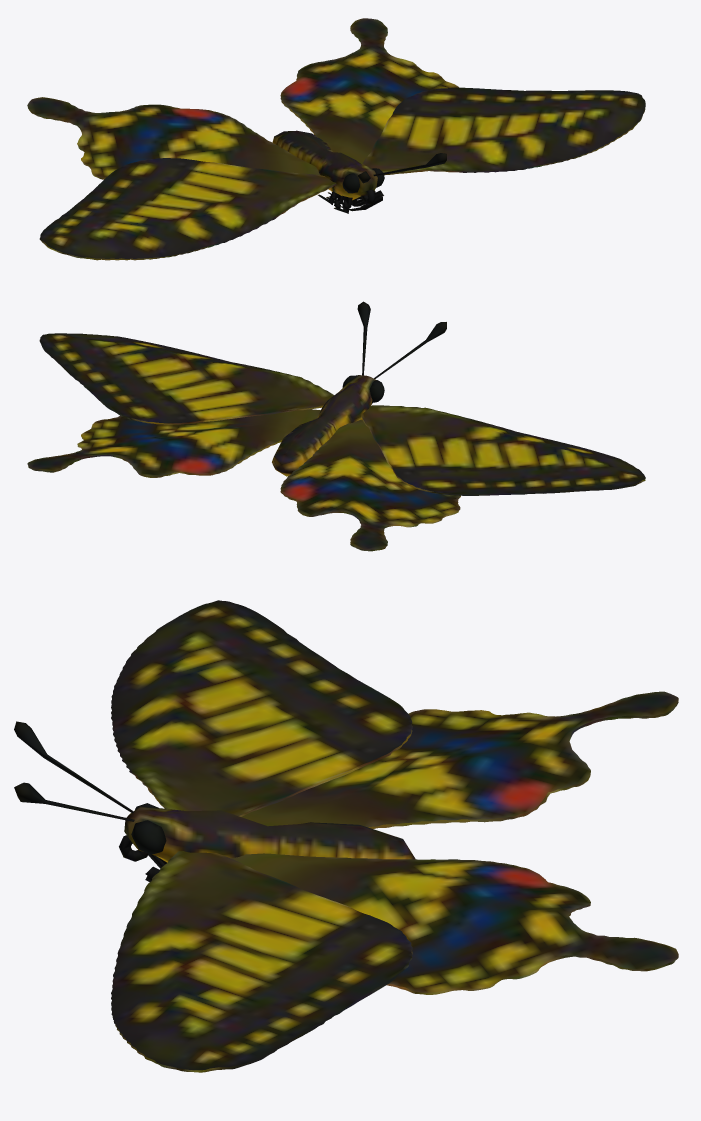
File: tiger-butterfly.glb
The picture shows the model from 3 angles, top to bottom: view 1: azimuth 30°, elevation 25°; view 2: azimuth 150°, elevation 25°; view 3: azimuth 270°, elevation 25°; orthographic projection. The views are drawn at different scales.
Bounding box in the file's own units: 6.48 × 0.8734 × 3.56.
1 material, 1 textured.
